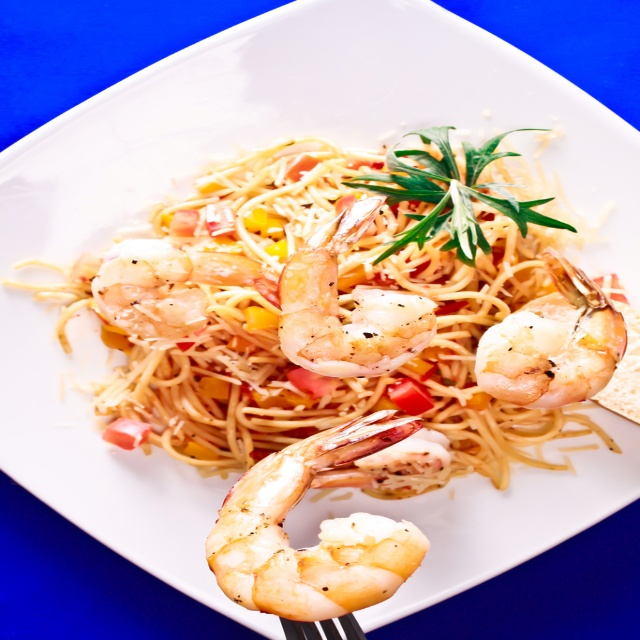Shrimp: (209, 412, 420, 618), (277, 198, 438, 380), (479, 255, 629, 404), (102, 242, 257, 340)
